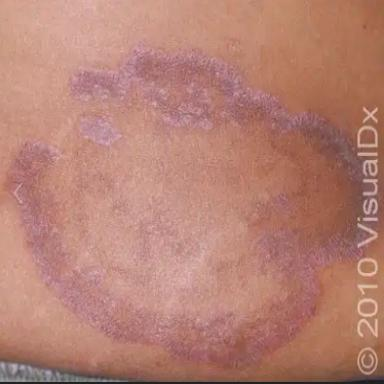Tinea-Corporis: (9, 47, 358, 369)
